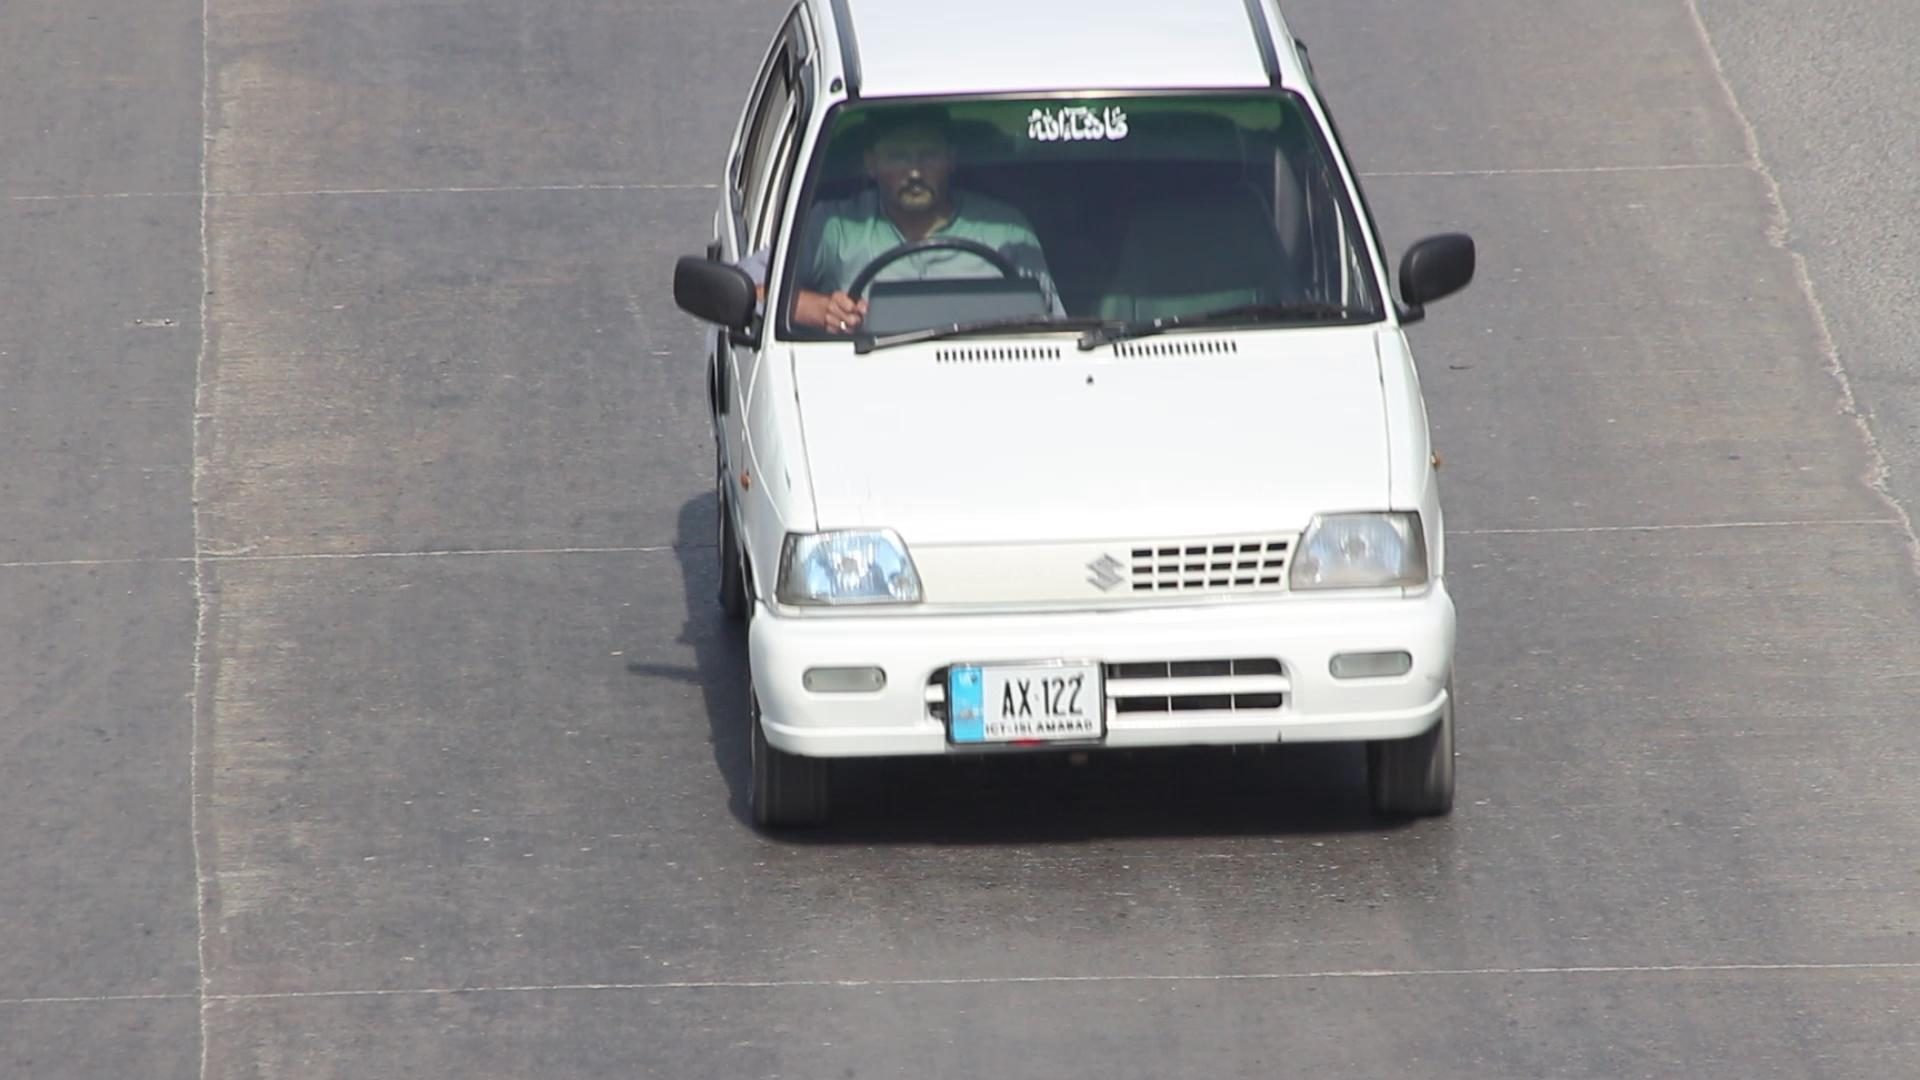windshield: (770, 94, 1394, 364)
